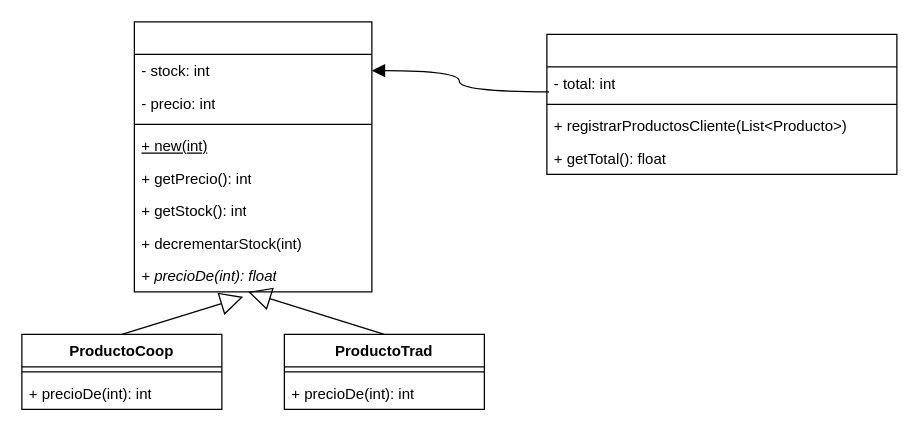
Image size: 919x435. Some labels were removed from this diagram. Here are the shapes that lost their labels. From the top down, the box of each, then its label:
(546, 33, 897, 174): Caja
(133, 21, 372, 292): Producto
